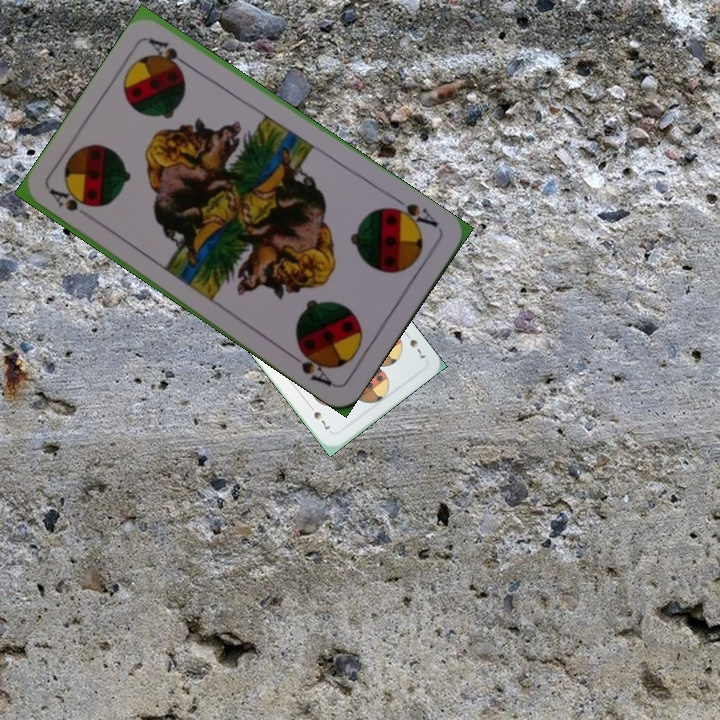S7: (405, 335, 429, 361)
SA: (384, 193, 441, 233), (45, 184, 93, 214)
